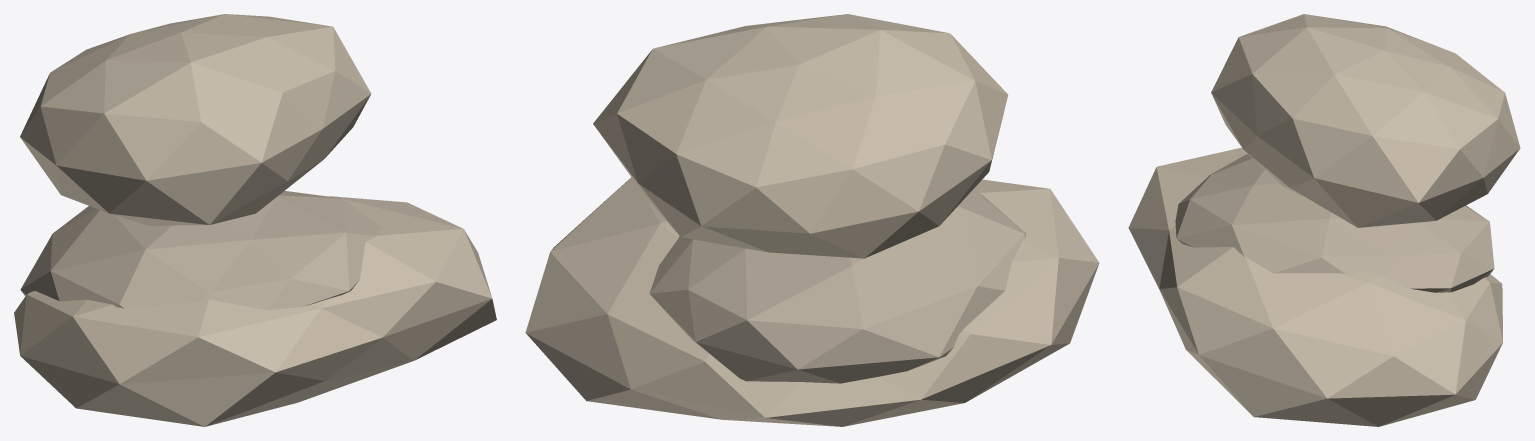
The model's file is campo_rock_slate_4.glb.
3 renders of one model, left to right at view 1: azimuth 30°, elevation 25°; view 2: azimuth 150°, elevation 25°; view 3: azimuth 270°, elevation 25°, orthographic. The views are drawn at different scales.
Parts seen in each view (by area): view 1: campo_rock_slate_4.glb; view 2: campo_rock_slate_4.glb; view 3: campo_rock_slate_4.glb.
Boxes of the visible parts, x1,y1,x2,y2 form: campo_rock_slate_4.glb: (14,14,496,426); campo_rock_slate_4.glb: (525,14,1099,426); campo_rock_slate_4.glb: (1128,14,1520,426).
Size of the model in its own units: 1.9 by 1.35 by 1.56.
